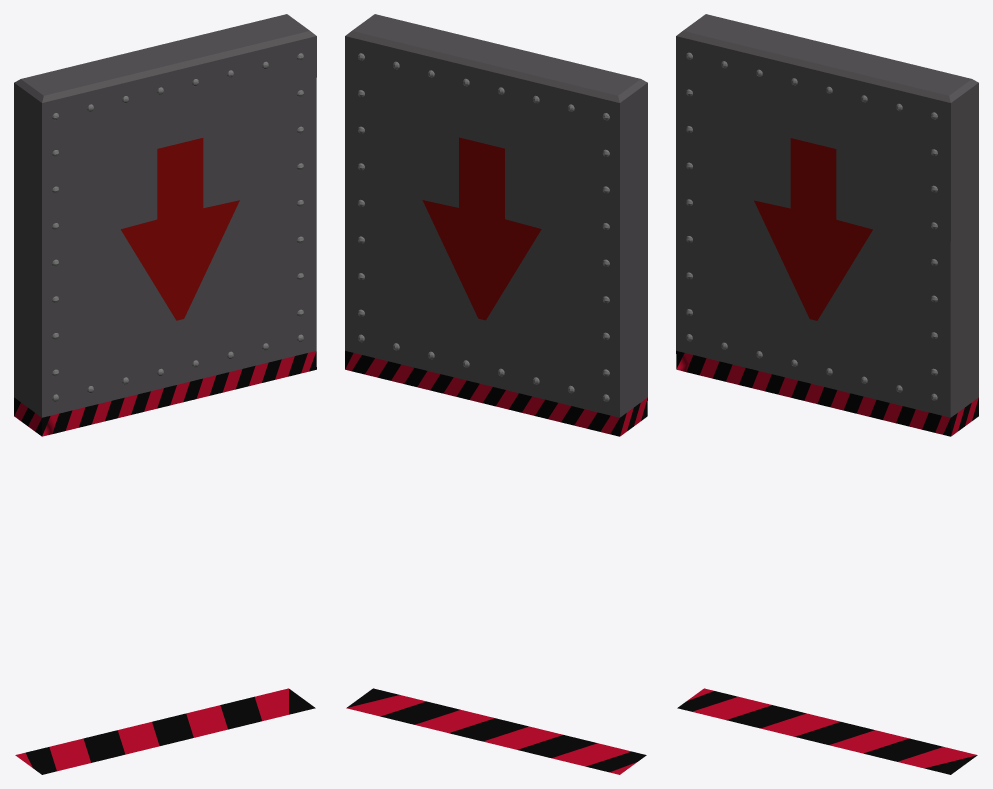
Rendered from MetalWallRed.glb.
3 renders of one model, left to right at view 1: azimuth 30°, elevation 25°; view 2: azimuth 150°, elevation 25°; view 3: azimuth 330°, elevation 25°, orthographic.
Parts seen in each view (by area): view 1: Cube.001, Plane.003, Cube.002; view 2: Cube.001, Plane.002, Cube.002; view 3: Cube.001, Plane.003, Cube.002.
Boxes of the visible parts, left/top/right/bottom form: Cube.001: left=14, top=14, right=316, bottom=436; Plane.003: left=121, top=138, right=239, bottom=320; Cube.002: left=15, top=688, right=315, bottom=774; Cube.001: left=345, top=14, right=647, bottom=436; Plane.002: left=422, top=137, right=541, bottom=320; Cube.002: left=346, top=688, right=646, bottom=774; Cube.001: left=676, top=14, right=978, bottom=436; Plane.003: left=754, top=138, right=872, bottom=320; Cube.002: left=677, top=688, right=977, bottom=774.
Size of the model in its own units: 1.92 by 4.51 by 0.3747.
